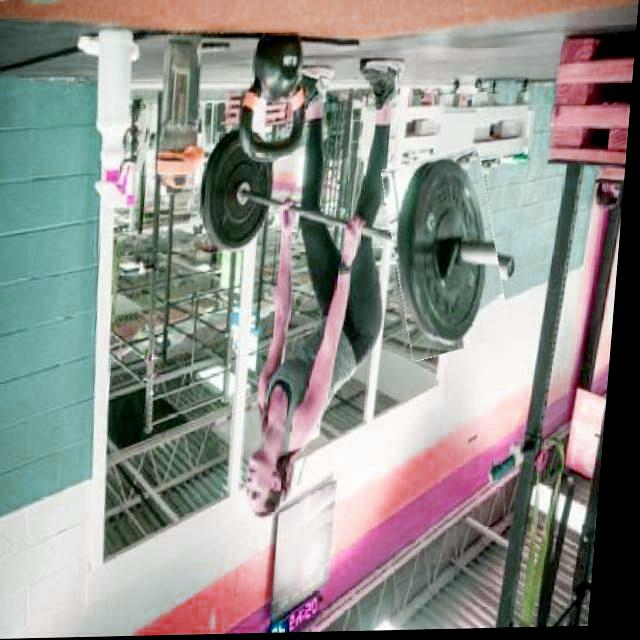barbell: (385, 151, 517, 360)
